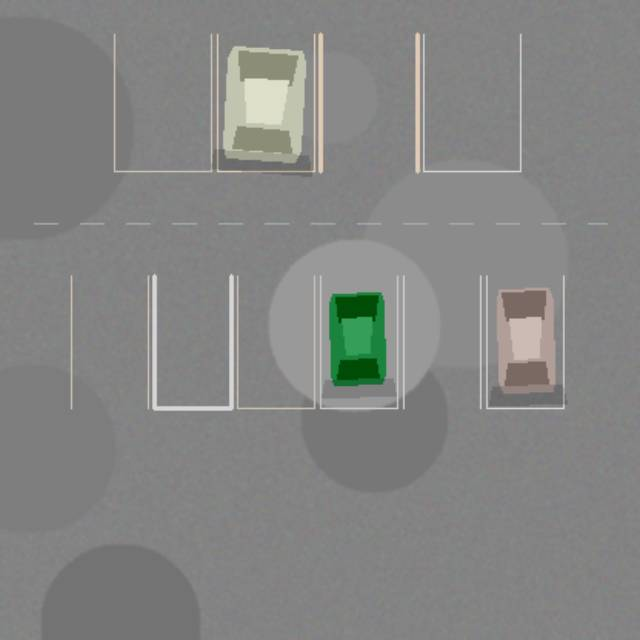space-empty: (114, 34, 211, 171), (320, 34, 417, 171), (423, 34, 520, 171), (71, 275, 148, 408), (154, 275, 231, 408), (237, 275, 314, 408), (403, 275, 480, 408)
space-occupied: (217, 34, 314, 171), (320, 275, 397, 408), (486, 275, 563, 408)
